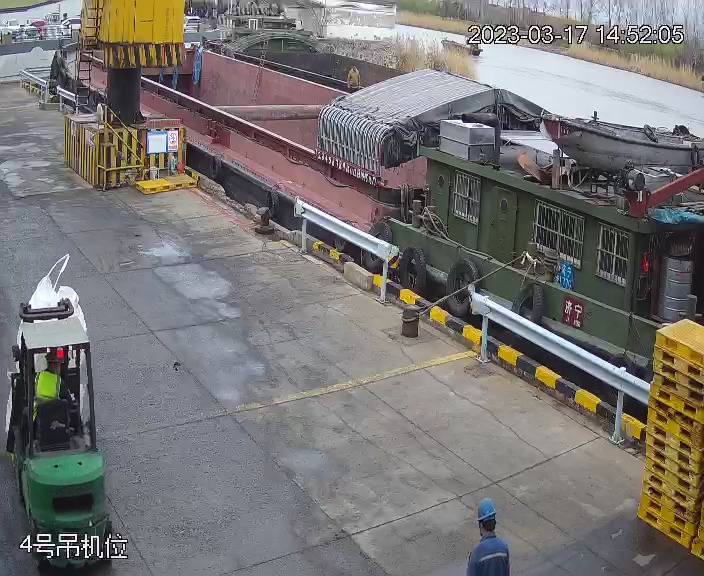head: (466, 495, 513, 569)
helmet: (474, 496, 499, 521)
